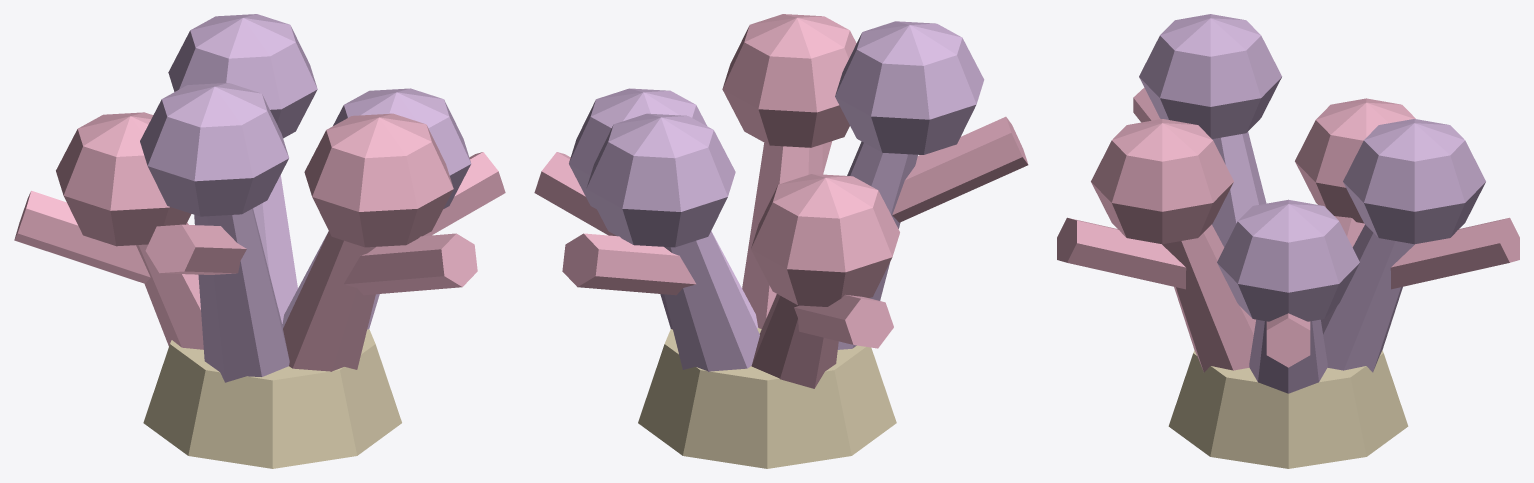
The model's file is coral_1.glb.
3 views of the same model, side by side, from view 1: azimuth 30°, elevation 25°; view 2: azimuth 150°, elevation 25°; view 3: azimuth 270°, elevation 25° (orthographic). The views are drawn at different scales.
Visible parts, largest first — view 1: coral_1; view 2: coral_1; view 3: coral_1.
Part boxes in pixels (left/top/right/bottom): coral_1: left=14, top=14, right=505, bottom=468; coral_1: left=534, top=14, right=1028, bottom=468; coral_1: left=1057, top=14, right=1519, bottom=468.
Bounding box in the file's own units: 1.24 × 1.09 × 1.29.
